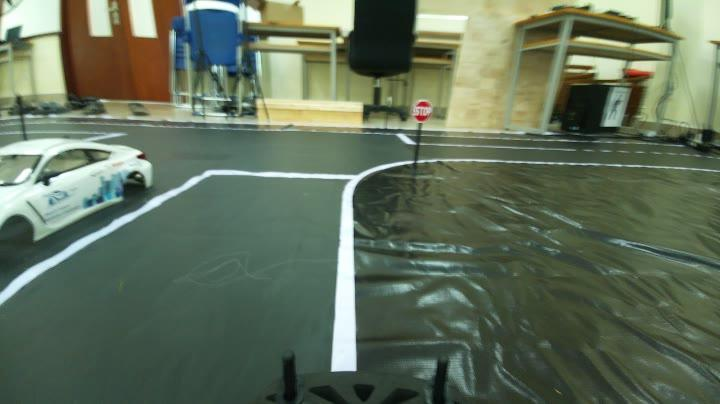stop: (406, 95, 440, 122)
